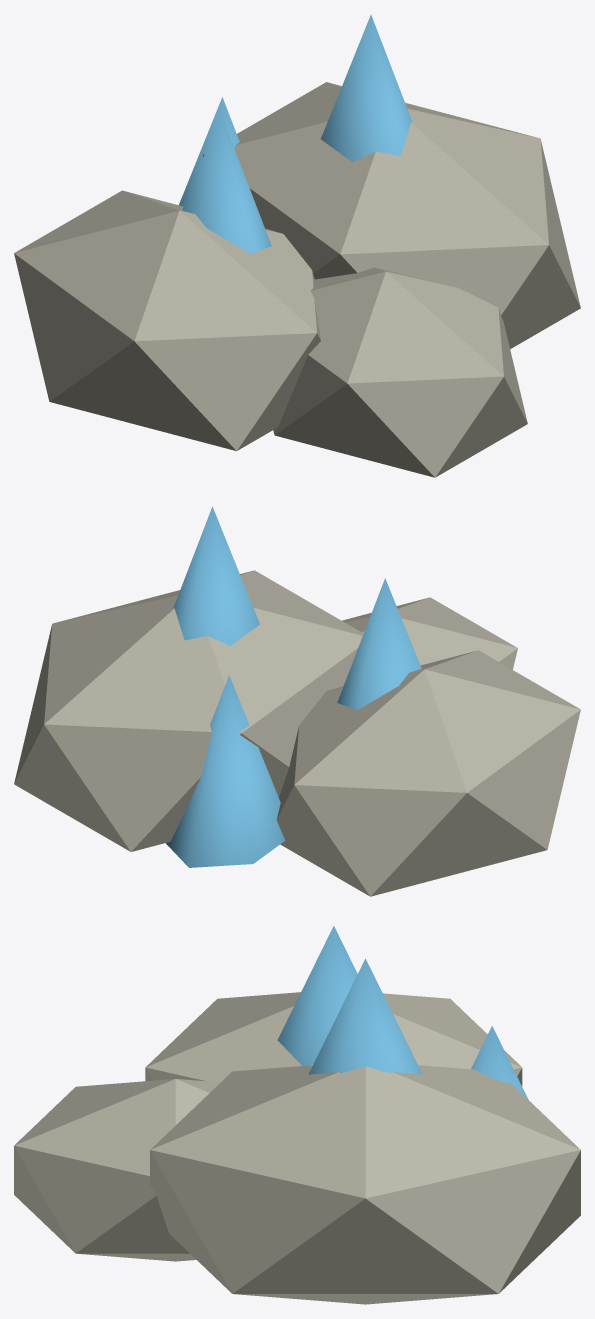
File: ore_ready.fbx
3 views of the same model, one above another, from view 1: azimuth 30°, elevation 25°; view 2: azimuth 150°, elevation 25°; view 3: azimuth 270°, elevation 25° (orthographic). The views are drawn at different scales.
Visible parts, largest first — view 1: ore_ready; view 2: ore_ready; view 3: ore_ready.
Part boxes in pixels (<box>): ore_ready: <box>14,14,580,477</box>; ore_ready: <box>14,506,580,896</box>; ore_ready: <box>14,926,580,1304</box>.
Bounding box in the file's own units: 1.5 × 1 × 1.5.
Materials: 1 (1 with a texture image).
